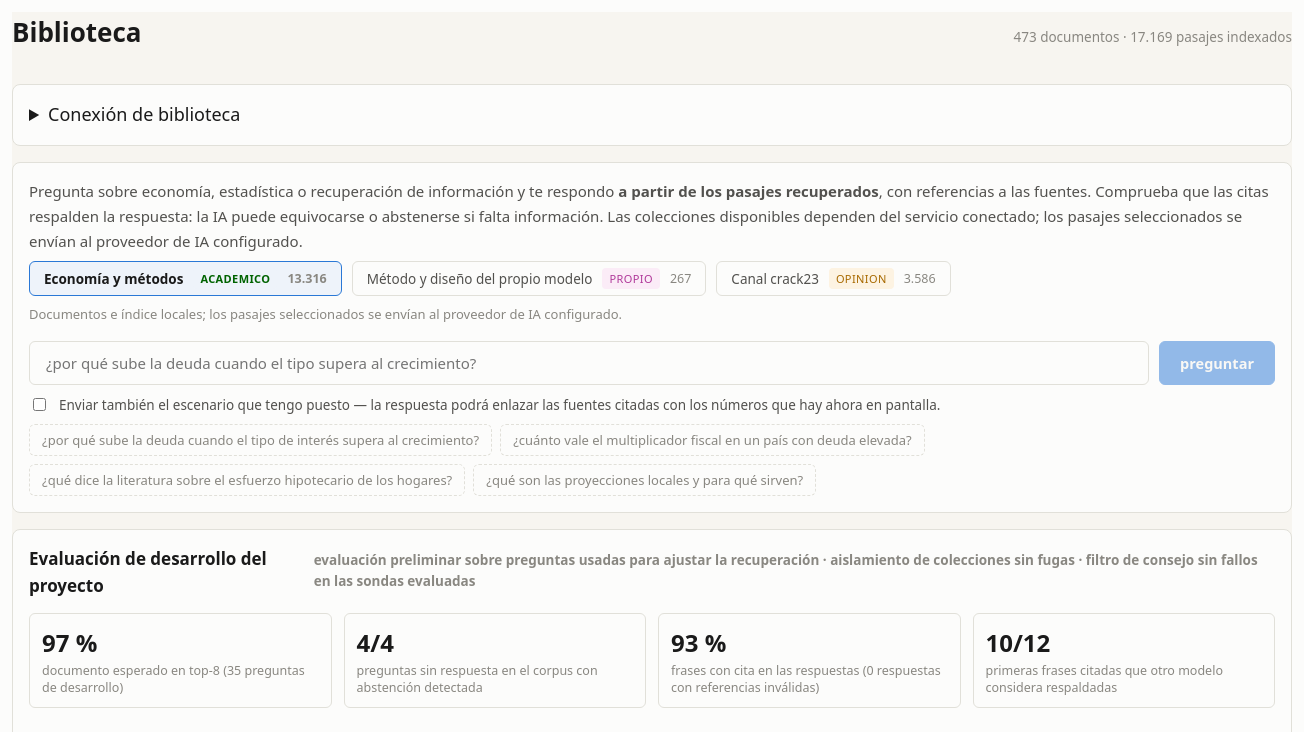
Scenario: Biblioteca — chat con citas › keeps the generic message for a non-503 failure but shows the HTTP status
Check: the text "Economía y métodos" is shown, box [44, 268, 183, 289]
Type "por qué sube la deuda" into the field named "Pregunta" at (589, 363), box [29, 341, 1149, 385]
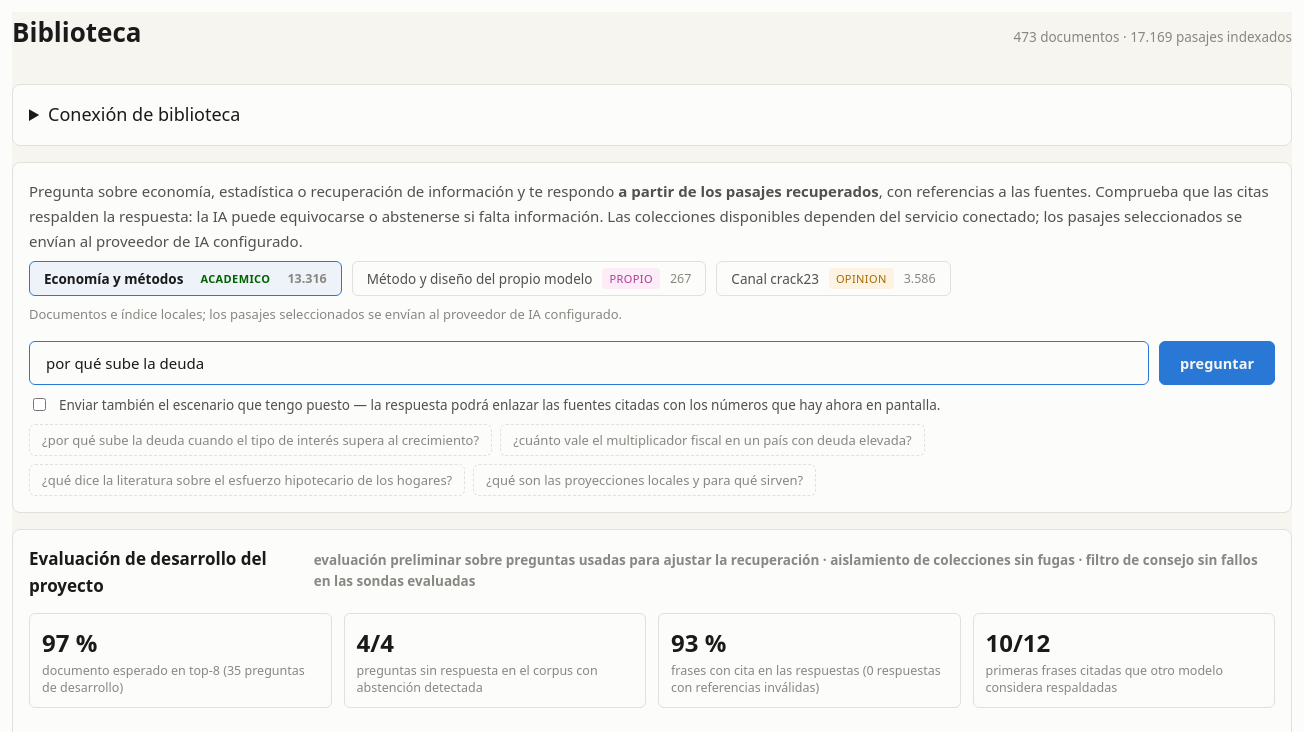
Click the button "preguntar" at (1217, 363), box [1159, 341, 1275, 385]
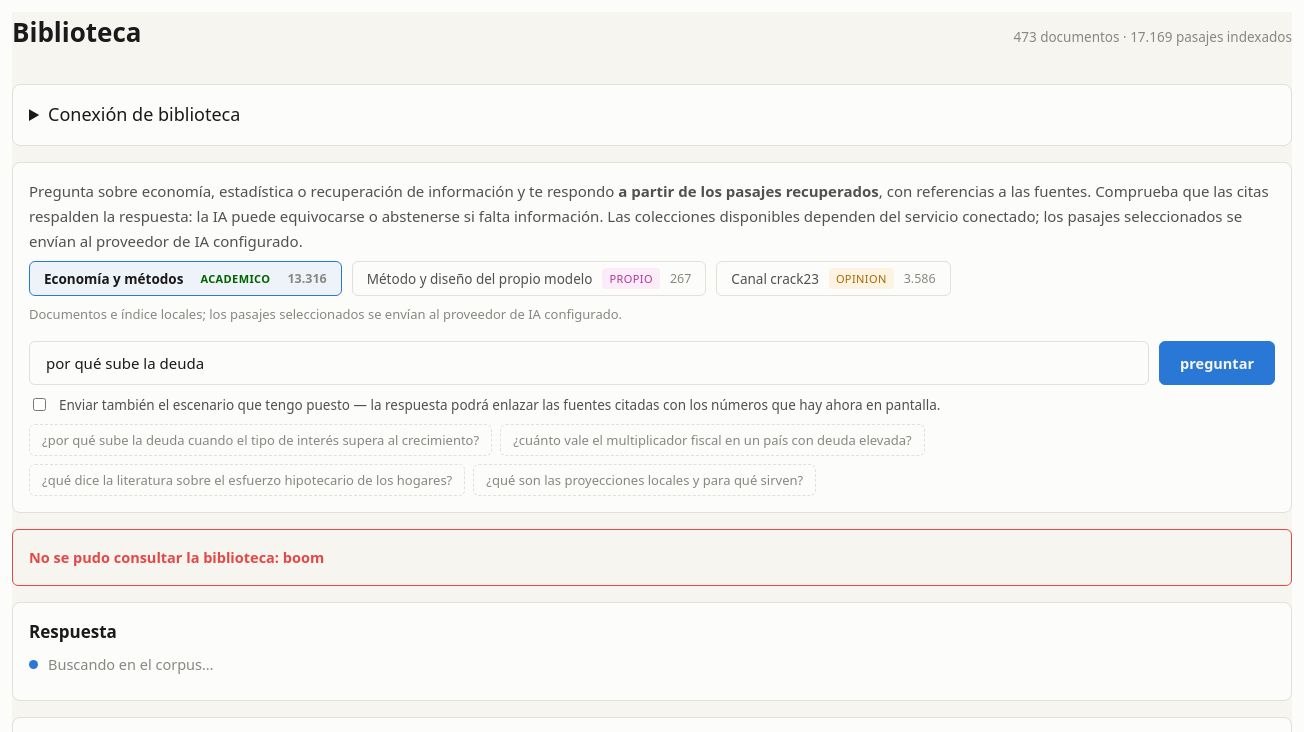
Check: the text "No se pudo consultar la biblioteca: boom" is shown, box [12, 529, 1292, 586]
